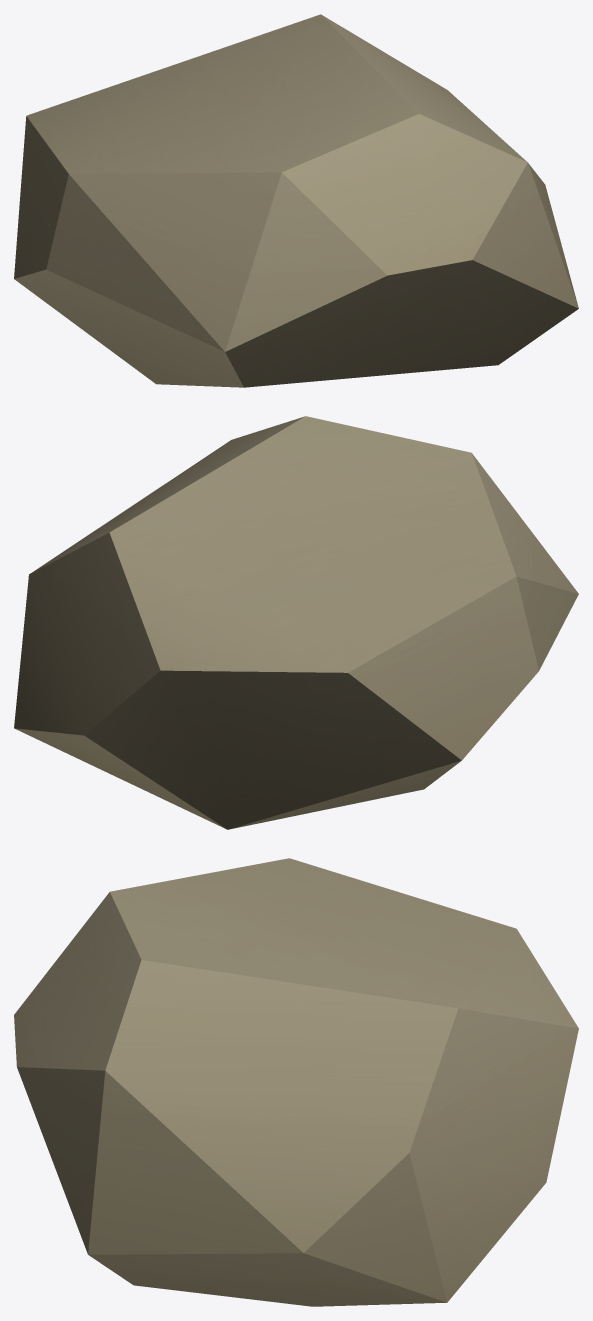
File: Rock_little_01.fbx
3 views of the same model, one above another, from view 1: azimuth 30°, elevation 25°; view 2: azimuth 150°, elevation 25°; view 3: azimuth 270°, elevation 25° (orthographic). The views are drawn at different scales.
Parts seen in each view (by area): view 1: Rock_little_01; view 2: Rock_little_01; view 3: Rock_little_01.
Boxes of the visible parts, x1,y1,x2,y2 form: Rock_little_01: (14,14,578,387); Rock_little_01: (14,416,578,829); Rock_little_01: (14,858,578,1306).
Size of the model in its own units: 80.04 by 43.51 by 72.34.
